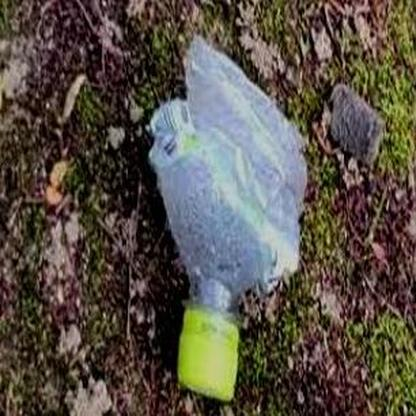plastic bottle: (150, 36, 309, 400)
